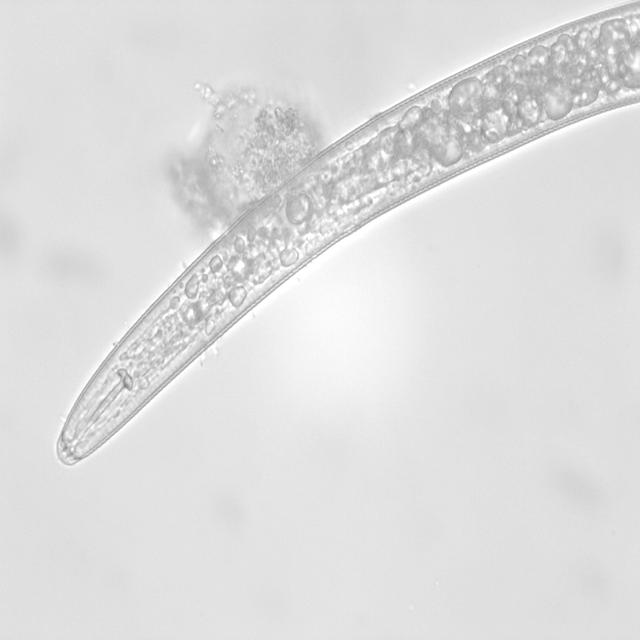Helicotylenchus: (40, 0, 639, 471)
